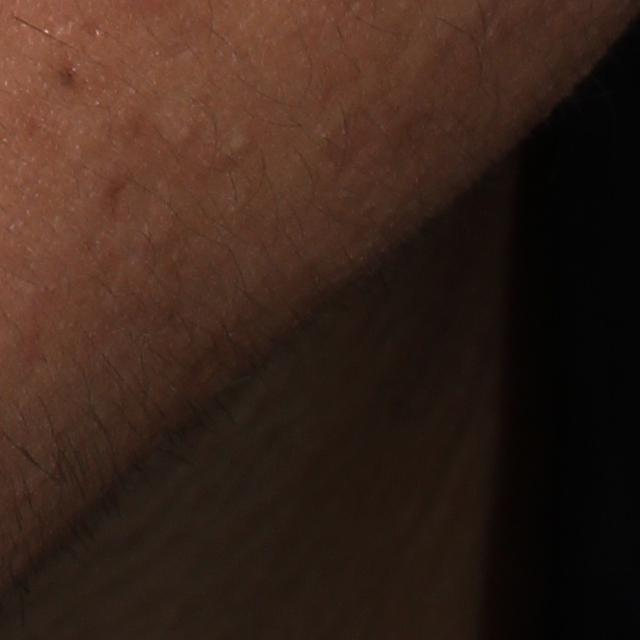comedo: (228, 127, 248, 154)
nevus: (55, 62, 82, 90)
